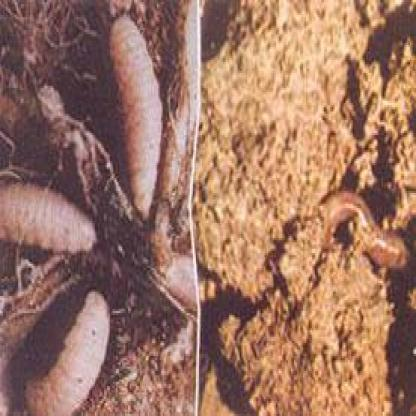whorl-maggot: (21, 290, 111, 414), (109, 15, 163, 221), (2, 182, 100, 252)
